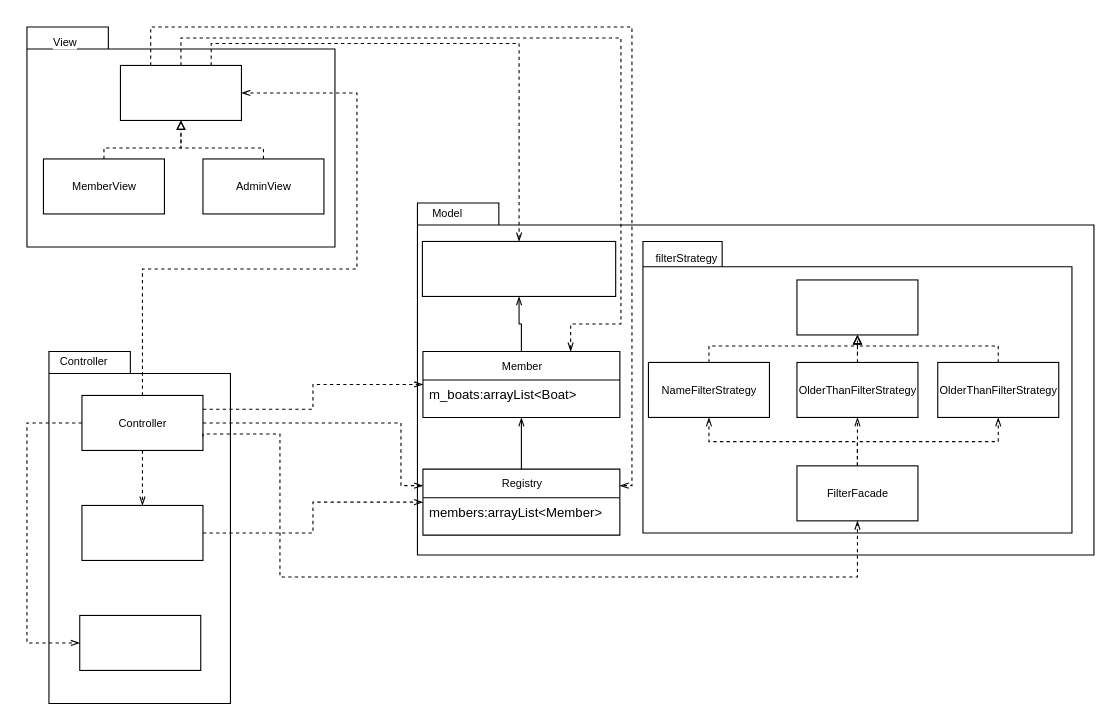
This 1113x728 diagram has some shape labels left out. The shapes that lost their labels are listed below. From the top down, each one's centre as x and y in pixels, then its label:
At pixel 180 92: "«interface» IView".
At pixel 518 268: "Boat".
At pixel 857 307: "«interface» IFilter".
At pixel 142 532: "database".
At pixel 140 642: "errorhandling".
